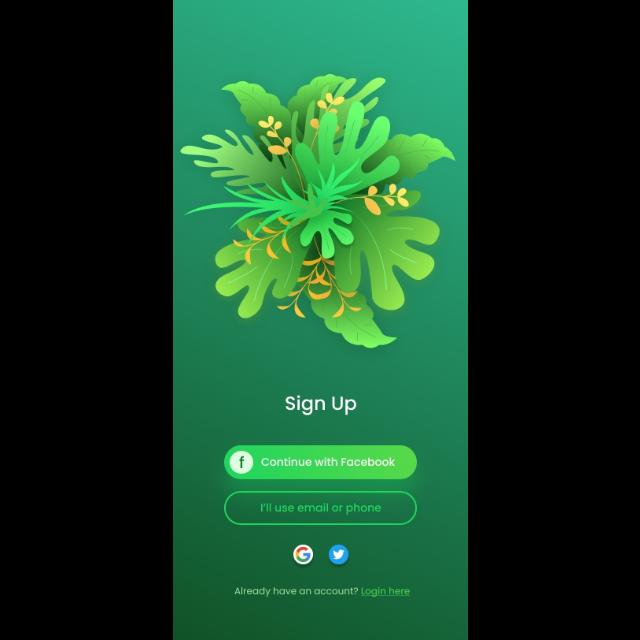icon: (328, 544, 348, 564), (293, 544, 313, 564)
image: (180, 74, 454, 350)
text: (234, 586, 410, 598), (284, 394, 356, 416)
textbutton: (224, 444, 416, 480), (224, 490, 416, 526)
